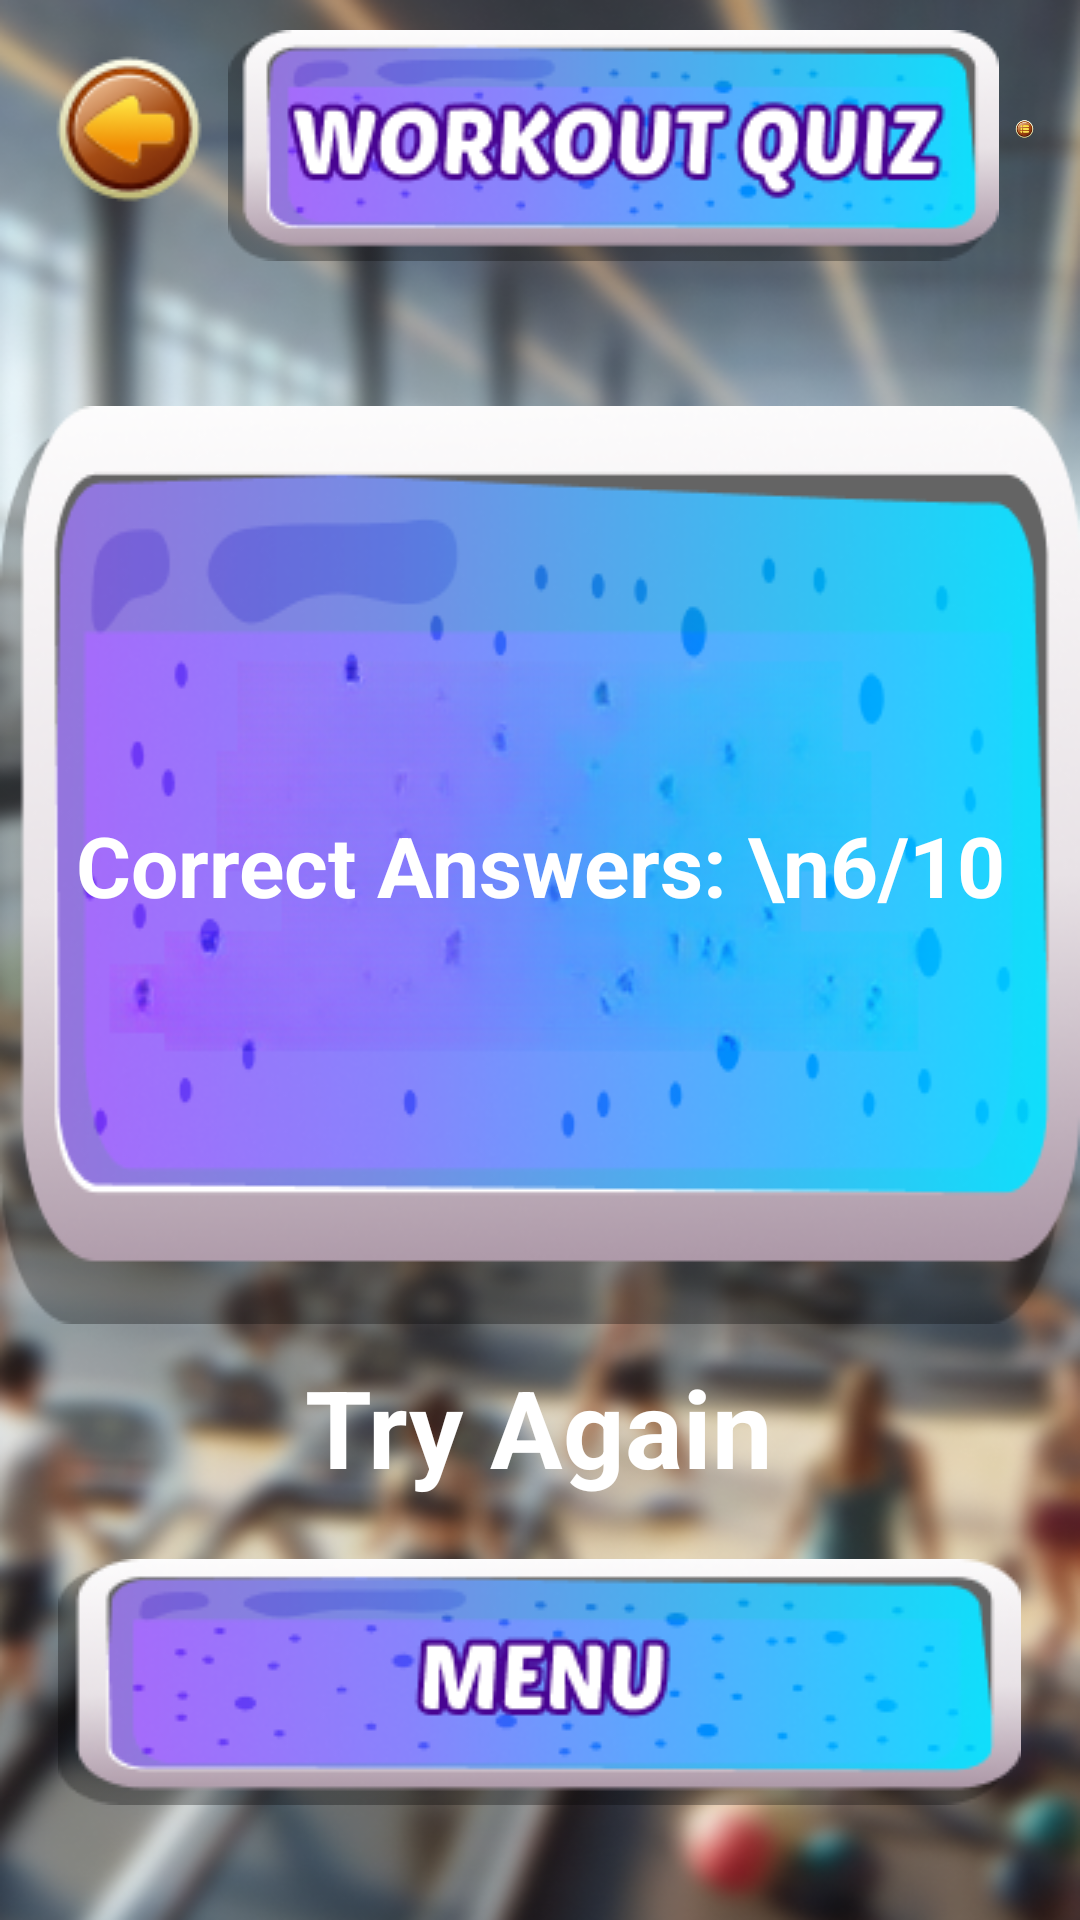

Icon click points for this 1080px×1920px phone screenshot, format (x,y):
backbtn: (129,129)
